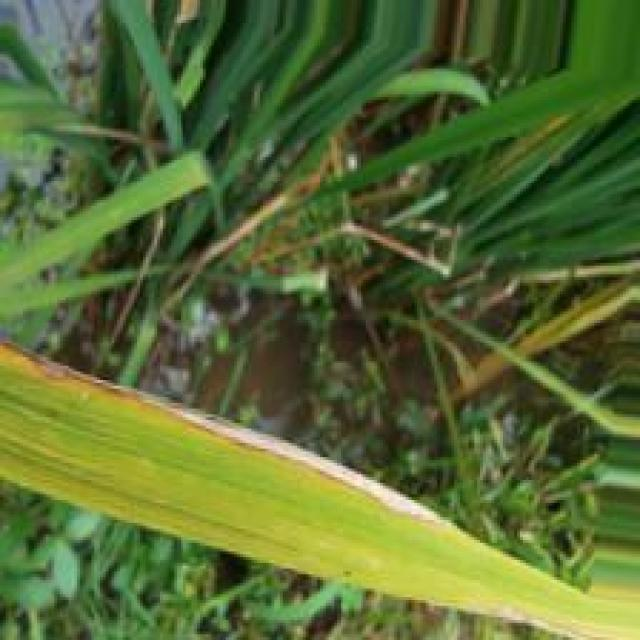Bacterial_Leaf_Blight: (3, 342, 449, 524)
